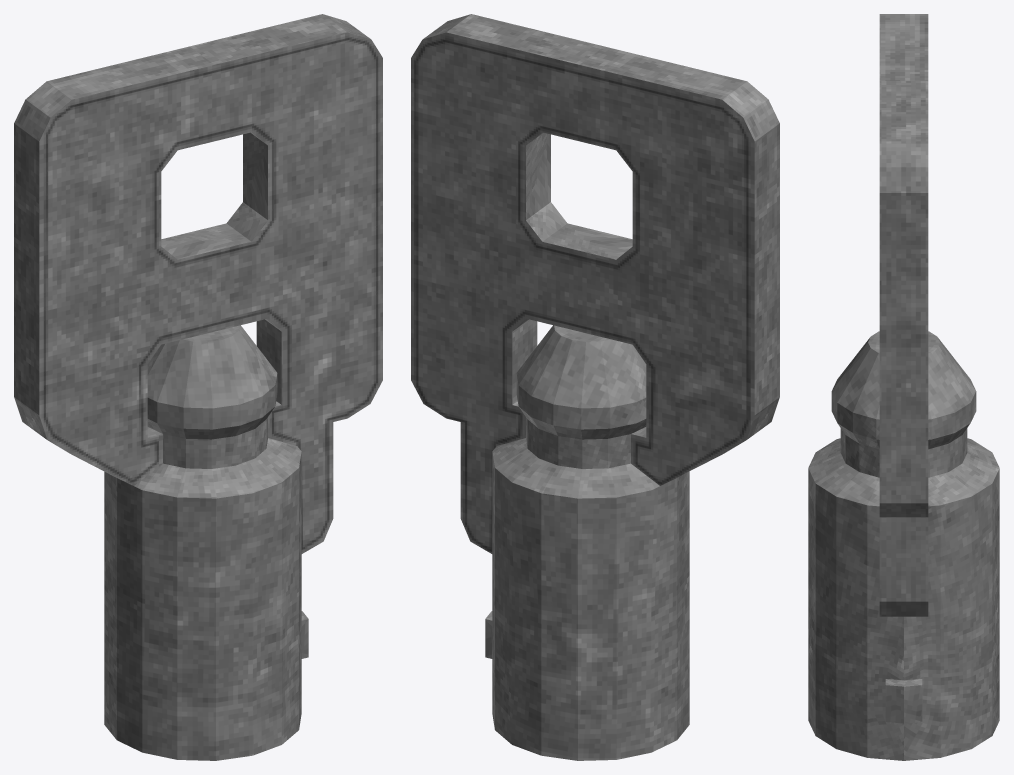
The model's file is ModeloLlaveFinal.fbx.
3 views of the same model, side by side, from view 1: azimuth 30°, elevation 25°; view 2: azimuth 150°, elevation 25°; view 3: azimuth 270°, elevation 25° (orthographic). The views are drawn at different scales.
Parts seen in each view (by area): view 1: Unido; view 2: Unido; view 3: Unido.
Boxes of the visible parts, left/top/right/bottom form: Unido: left=14, top=14, right=382, bottom=760; Unido: left=411, top=14, right=779, bottom=760; Unido: left=808, top=14, right=999, bottom=760.
Size of the model in its own units: 33.52 by 61.86 by 16.8.
Materials: 1 (1 with a texture image).
